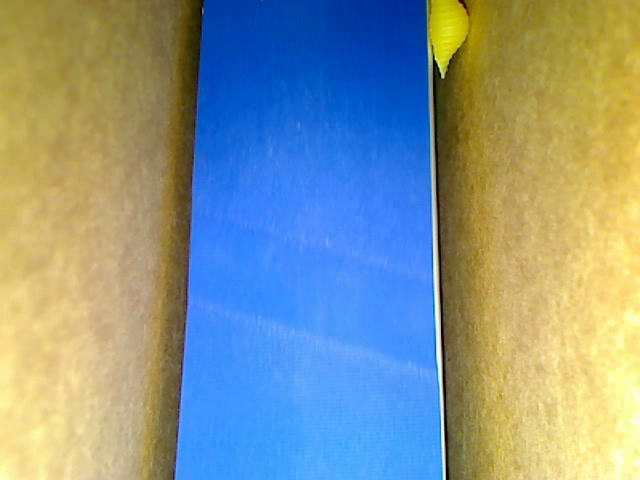shell: (425, 1, 469, 83)
